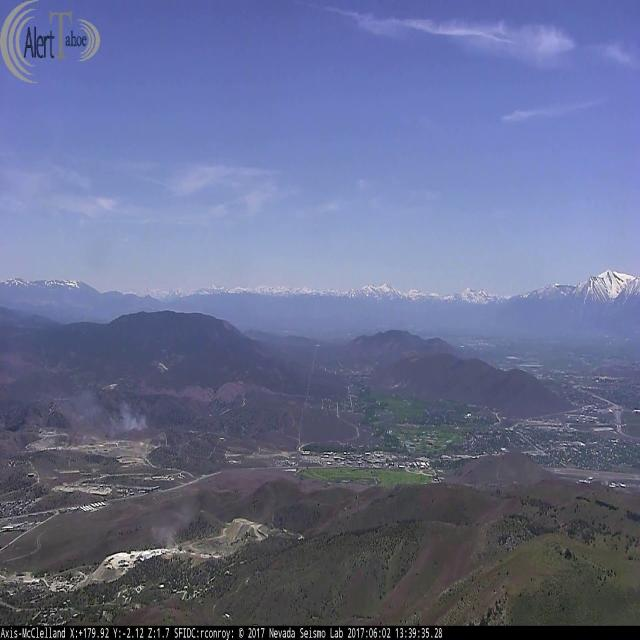smoke: (69, 389, 154, 441)
